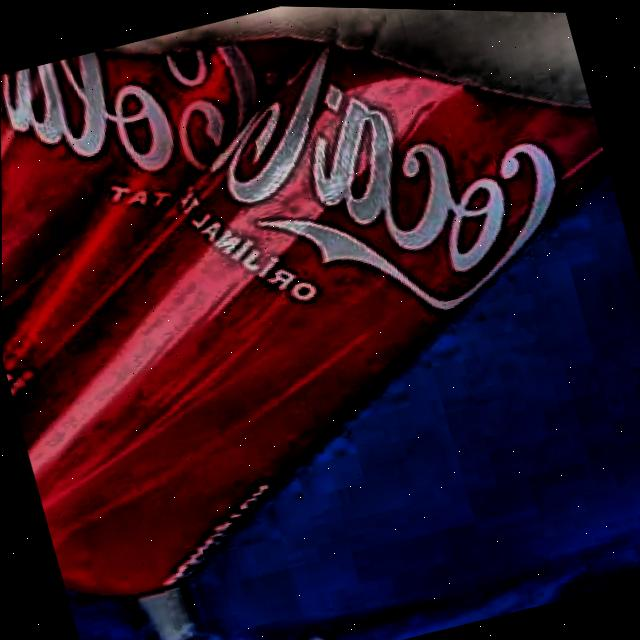metal: (0, 40, 608, 597)
